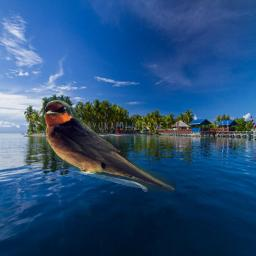Swallow: (42, 97, 176, 192)
